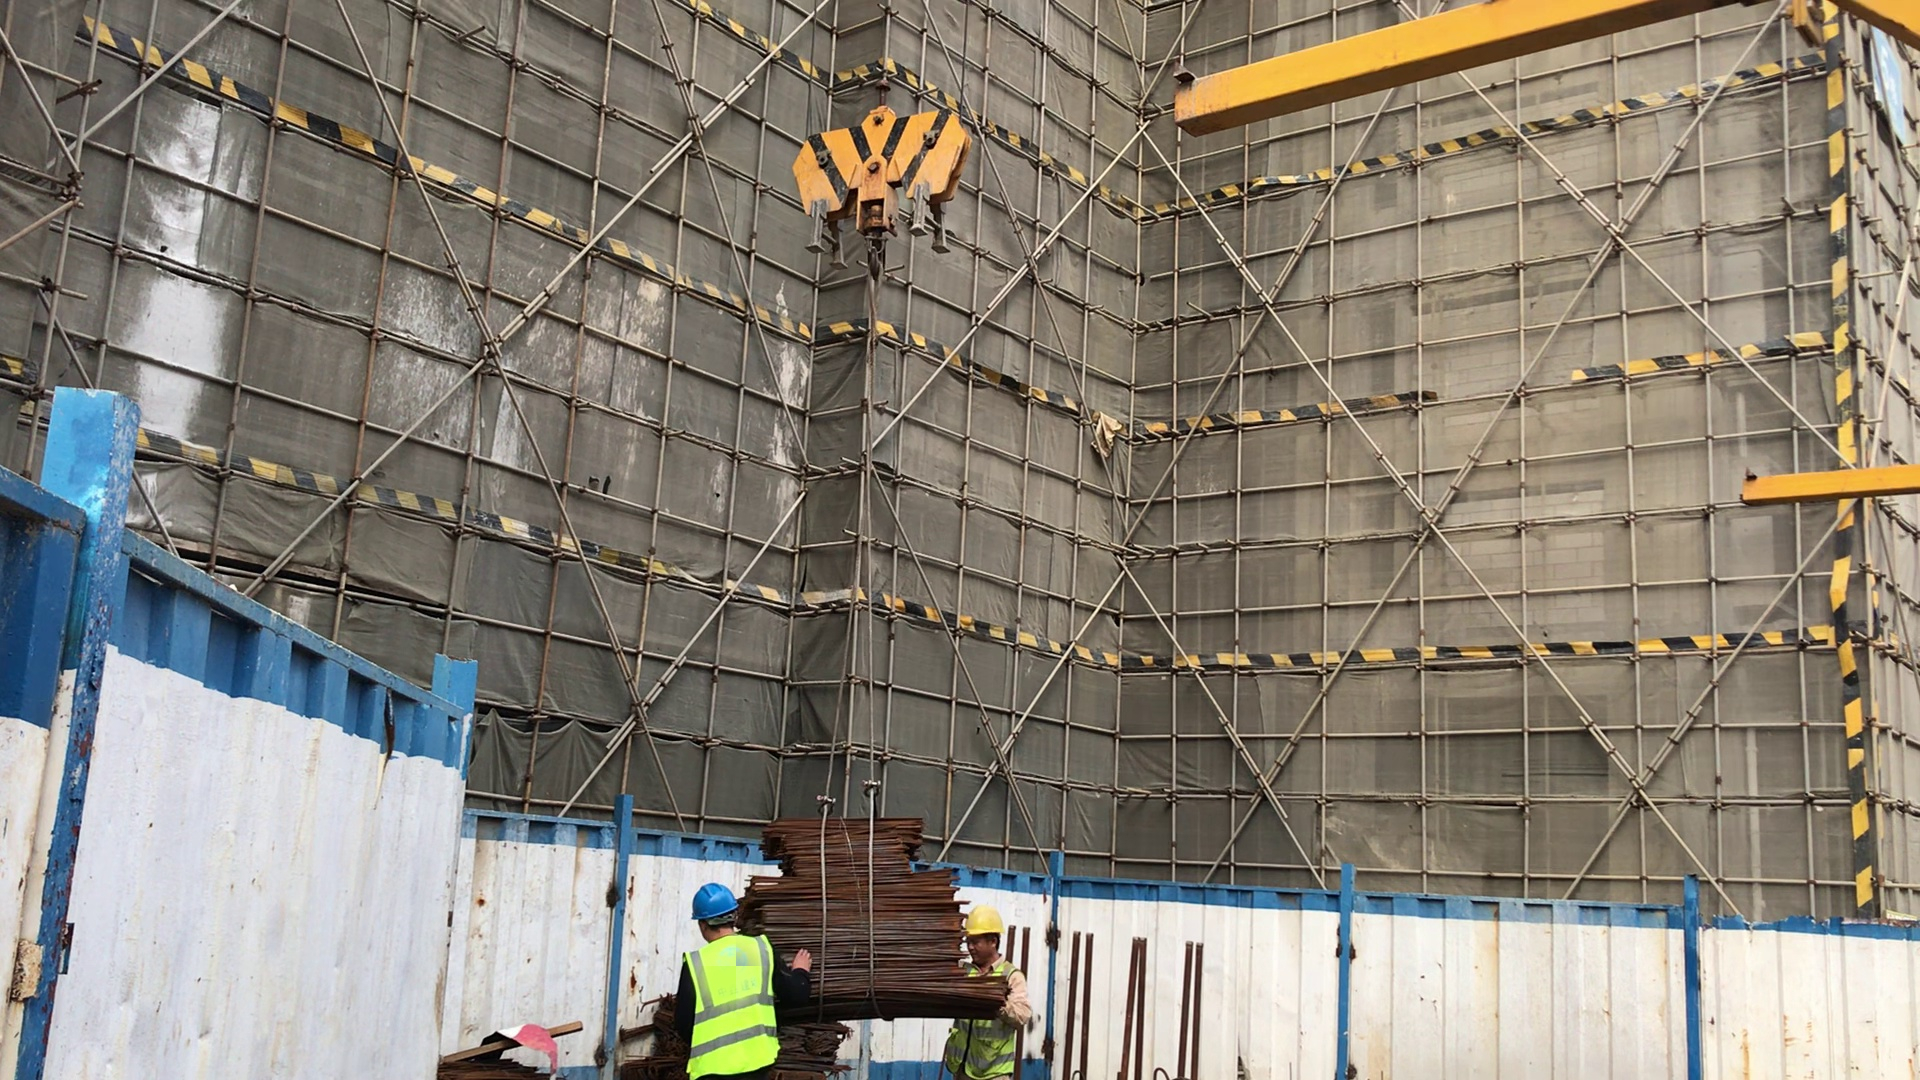helmet: (684, 882, 743, 920), (964, 906, 1006, 950)
hook: (785, 100, 974, 291)
person: (665, 870, 823, 1080), (950, 901, 1039, 1080)
vest: (683, 937, 783, 1076), (957, 964, 1019, 1080)
